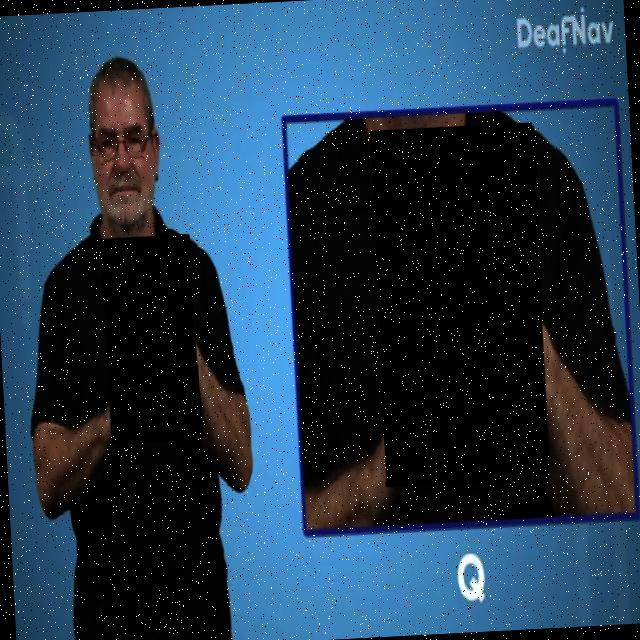Q: (370, 124, 553, 490), (102, 235, 204, 445)
